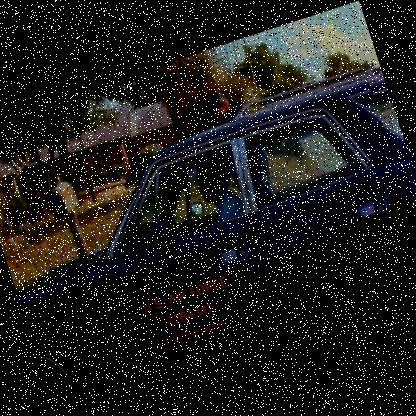Car: (19, 65, 415, 415)
